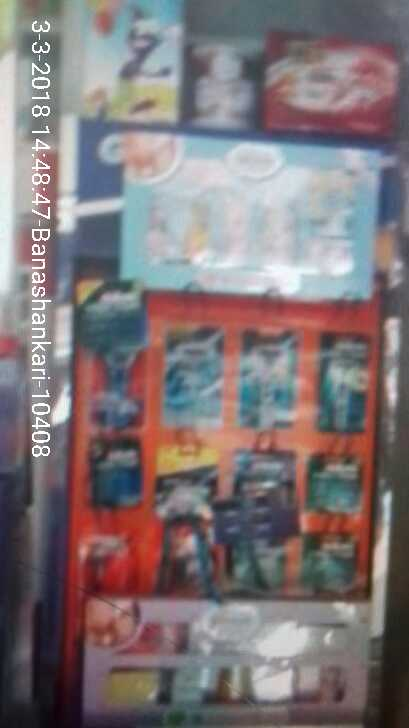gillette: (76, 268, 148, 366), (307, 449, 375, 527), (240, 453, 297, 541), (88, 430, 146, 510)
